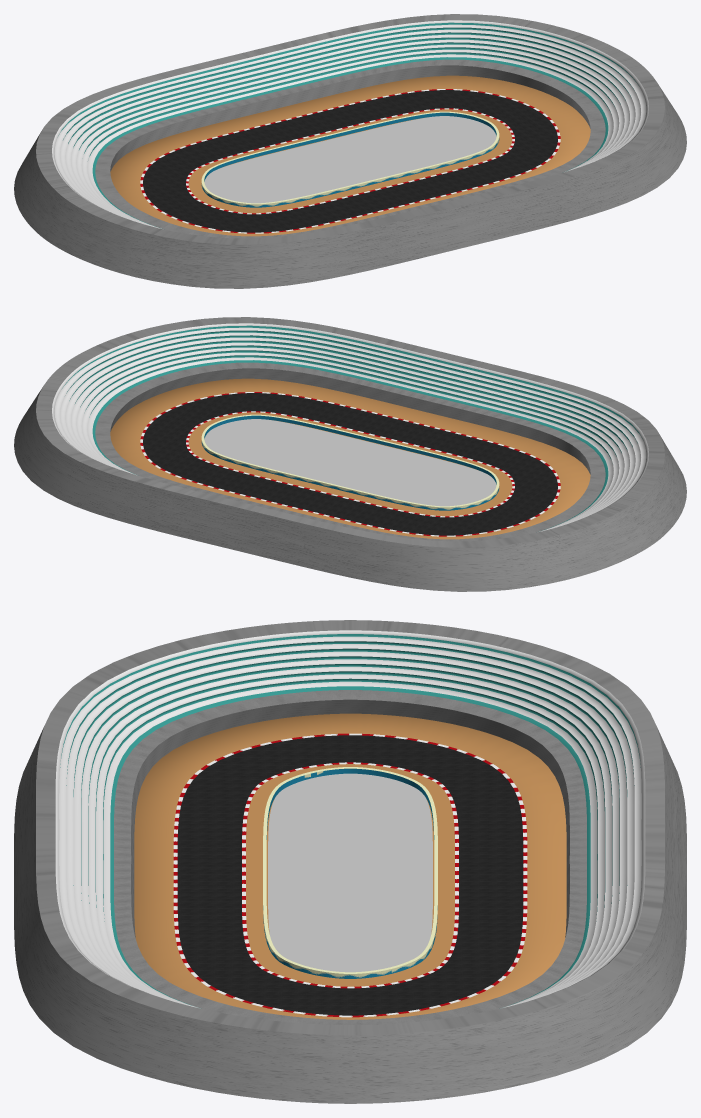
The model's file is SpeedWayTrial.fbx.
The picture shows the model from 3 angles, top to bottom: view 1: azimuth 30°, elevation 25°; view 2: azimuth 150°, elevation 25°; view 3: azimuth 270°, elevation 25°; orthographic projection. The views are drawn at different scales.
Visible parts, largest first — view 1: Stadium, SpeedwayTrack, SpeedwayTrackInnerBarrier; view 2: Stadium, SpeedwayTrack, SpeedwayTrackInnerBarrier; view 3: Stadium, SpeedwayTrack, SpeedwayTrackInnerBarrier.
Part boxes in pixels (x1=…): Stadium: x1=14, y1=14, x2=686, y2=288; SpeedwayTrack: x1=110, y1=75, x2=590, y2=236; SpeedwayTrackInnerBarrier: x1=201, y1=111, x2=499, y2=207; Stadium: x1=14, y1=317, x2=686, y2=591; SpeedwayTrack: x1=110, y1=378, x2=590, y2=539; SpeedwayTrackInnerBarrier: x1=201, y1=414, x2=499, y2=510; Stadium: x1=14, y1=620, x2=686, y2=1103; SpeedwayTrack: x1=134, y1=713, x2=566, y2=1019; SpeedwayTrackInnerBarrier: x1=263, y1=767, x2=437, y2=978.
Size of what is drawn, in the model's own units: 570 by 365 by 32.32.
